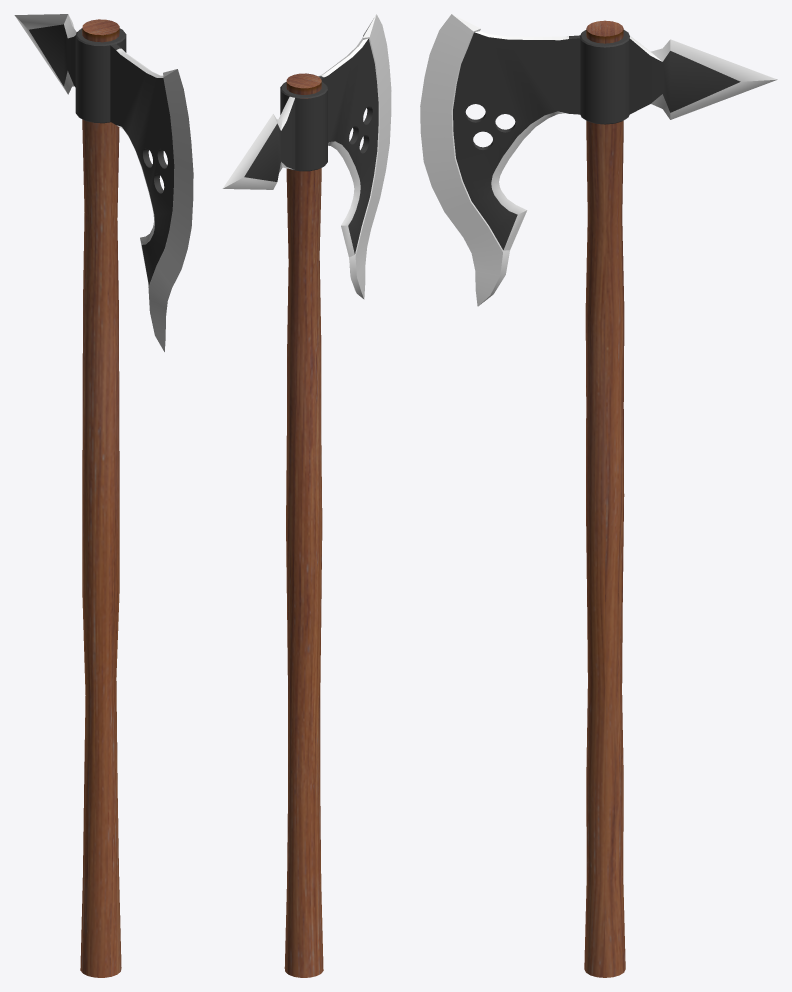
The model's file is axe.fbx.
The picture shows the model from 3 angles, left to right: view 1: azimuth 30°, elevation 25°; view 2: azimuth 150°, elevation 25°; view 3: azimuth 270°, elevation 25°; orthographic projection. The views are drawn at different scales.
Visible parts, largest first — view 1: axe; view 2: axe; view 3: axe.
Part boxes in pixels (<box>): axe: <box>14,14,193,977</box>; axe: <box>222,14,391,977</box>; axe: <box>420,14,777,977</box>.
Size of the model in its own units: 5.9 by 123 by 41.6.
